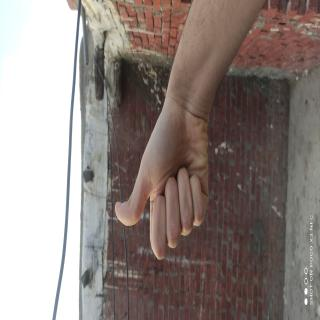ALIF: (25, 246, 100, 320)
